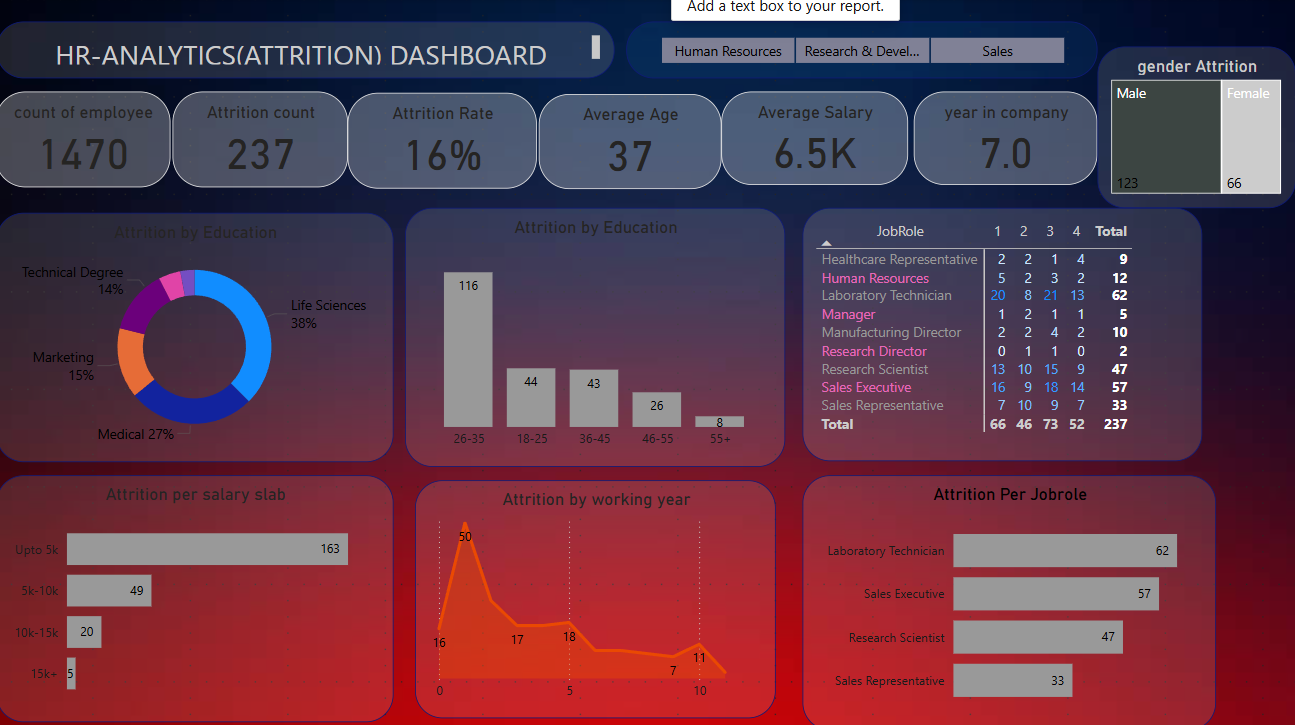

The dashboard page shown, as its layout file describes it:
{"tool":"powerbi","page":{"name":"Page 1","canvas":[1280,720],"ordinal":0},"visuals":[{"type":"card","title":"count of employee","fields":{"Values":["Count(HR_Analytics.EmpID)"]},"box":[0,90.7,173.1,94.8],"z":0},{"type":"card","title":"Attrition count","fields":{"Values":["Sum(HR_Analytics.Attritioncount)"]},"box":[174.3,90.6,172.9,94.7],"z":1000},{"type":"card","title":"Attrition Rate","fields":{"Values":["HR_Analytics.Attritionrate"]},"box":[347.2,91.9,186.6,94.7],"z":2000},{"type":"card","title":" year in company","fields":{"Values":["Avg(HR_Analytics.YearsAtCompany)"]},"box":[904.3,90.6,181.1,91.9],"z":3000},{"type":"card","title":"Average Salary","fields":{"Values":["Avg(HR_Analytics.MonthlyIncome)"]},"box":[714.9,90.6,183.9,91.9],"z":4000},{"type":"card","title":"Average Age","fields":{"Values":["Avg(HR_Analytics.Age)"]},"box":[535.2,93.3,179.8,93.3],"z":5000},{"type":"donutChart","title":"Attrition by Education","fields":{"Category":["HR_Analytics.EducationField"],"Y":["Sum(HR_Analytics.Attritioncount)"]},"box":[1.4,210.3,391.1,245.6],"z":6000},{"type":"columnChart","title":"Attrition by Education","fields":{"Category":["HR_Analytics.AgeGroup"],"Y":["Sum(HR_Analytics.Attritioncount)"]},"box":[403.4,205.8,374.6,255.2],"z":7000},{"type":"pivotTable","fields":{"Rows":["HR_Analytics.JobRole"],"Values":["Sum(HR_Analytics.Attritioncount)"],"Columns":["HR_Analytics.JobSatisfaction"]},"box":[794.5,205.8,393.8,249.7],"z":8000},{"type":"barChart","title":"Attrition per salary slab","fields":{"Category":["HR_Analytics.SalarySlab"],"Y":["Sum(HR_Analytics.Attritioncount)"]},"box":[1.4,469.3,391.1,242.9],"z":8001},{"type":"barChart","title":"Attrition Per Jobrole","fields":{"Category":["HR_Analytics.JobRole"],"Y":["Sum(HR_Analytics.Attritioncount)"]},"box":[794.5,469.3,407.5,251.1],"z":8002},{"type":"stackedAreaChart","title":"Attrition by working year","fields":{"Category":["HR_Analytics.YearsAtCompany"],"Y":["Sum(HR_Analytics.Attritioncount)"]},"box":[413,473.4,355.4,234.6],"z":8003},{"type":"treemap","title":"gender Attrition","fields":{"Group":["HR_Analytics.Gender"],"Values":["Sum(HR_Analytics.Attritioncount)"]},"box":[1085.4,46.7,194.9,159.2],"z":8004},{"type":"slicer","fields":{"Values":["HR_Analytics.Department"]},"box":[621.6,22,463.8,56.3],"z":8005},{"type":"textbox","box":[1.4,22,608.5,56.3],"z":8006}]}

Visuals, with their boxes on the page's 1280x720 design canvas (x1, y1, x2, y2). These are canvas units, not pixel positions in the 1295x725 screenshot, which may show the page scaled, cropped or inside an application window:
"count of employee" card: region(0, 91, 173, 186)
"Attrition count" card: region(174, 91, 347, 185)
"Attrition Rate" card: region(347, 92, 534, 187)
" year in company" card: region(904, 91, 1085, 182)
"Average Salary" card: region(715, 91, 899, 182)
"Average Age" card: region(535, 93, 715, 187)
"Attrition by Education" donutChart: region(1, 210, 392, 456)
"Attrition by Education" columnChart: region(403, 206, 778, 461)
pivotTable - HR_Analytics.JobRole x Sum(HR_Analytics.Attritioncount): region(794, 206, 1188, 456)
"Attrition per salary slab" barChart: region(1, 469, 392, 712)
"Attrition Per Jobrole" barChart: region(794, 469, 1202, 720)
"Attrition by working year" stackedAreaChart: region(413, 473, 768, 708)
"gender Attrition" treemap: region(1085, 47, 1280, 206)
slicer - HR_Analytics.Department: region(622, 22, 1085, 78)
textbox: region(1, 22, 610, 78)
